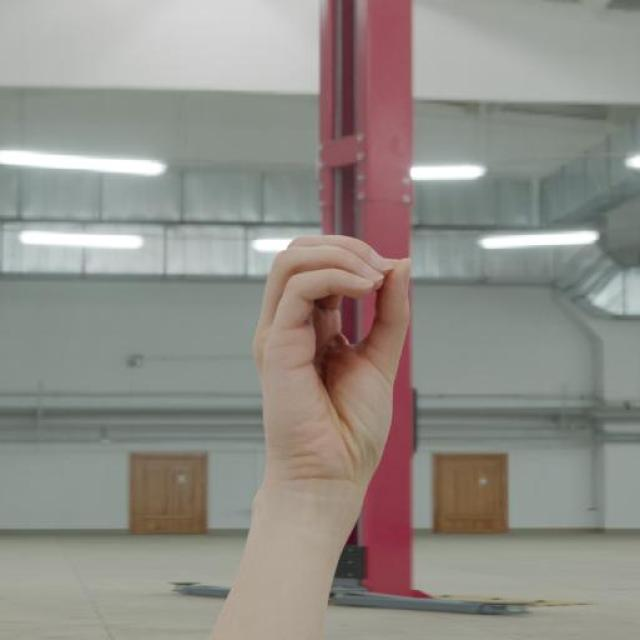O: (218, 207, 453, 525)
